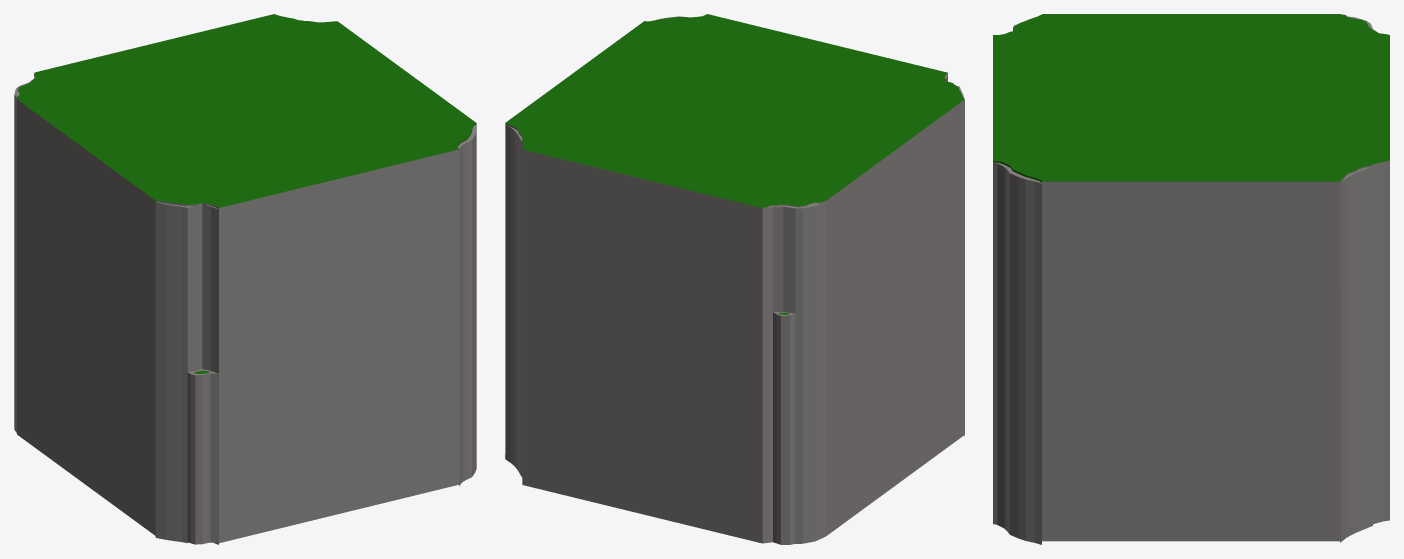
The model's file is QuadWedge.fbx.
3 views of the same model, side by side, from view 1: azimuth 30°, elevation 25°; view 2: azimuth 150°, elevation 25°; view 3: azimuth 270°, elevation 25° (orthographic). The views are drawn at different scales.
Parts seen in each view (by area): view 1: Plane.007; view 2: Plane.007; view 3: Plane.007.
Part boxes in pixels (x1,y1,x2,y2): Plane.007: (14, 14, 476, 544); Plane.007: (505, 14, 964, 544); Plane.007: (993, 14, 1389, 544).
Bounding box in the file's own units: 100 × 101 × 100.
